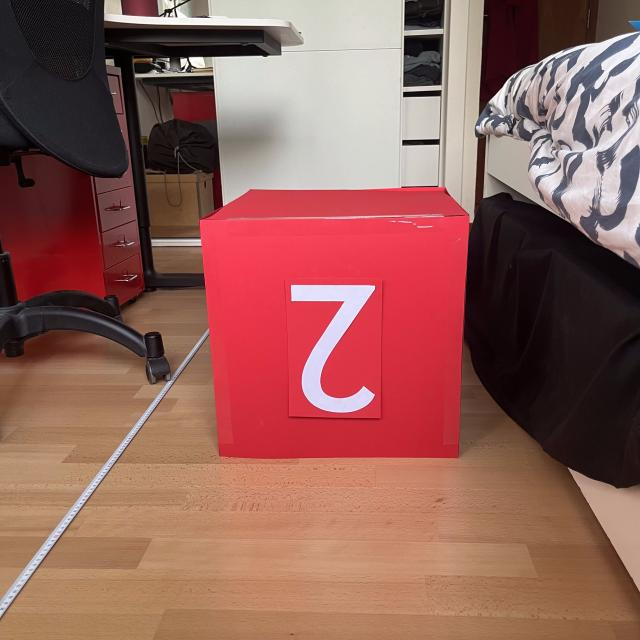box: (194, 182, 473, 462)
